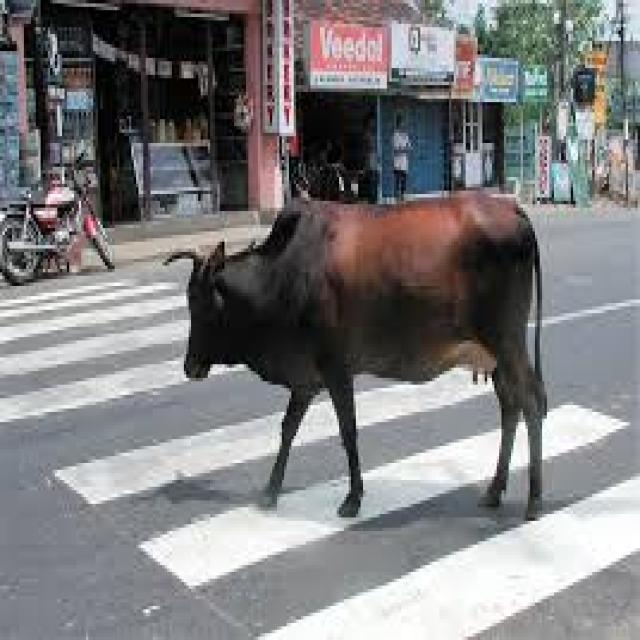cattle ahead at: (168, 193, 548, 527)
